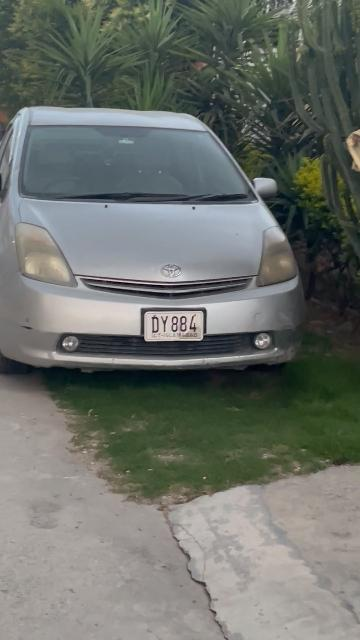plate: (144, 309, 204, 341)
